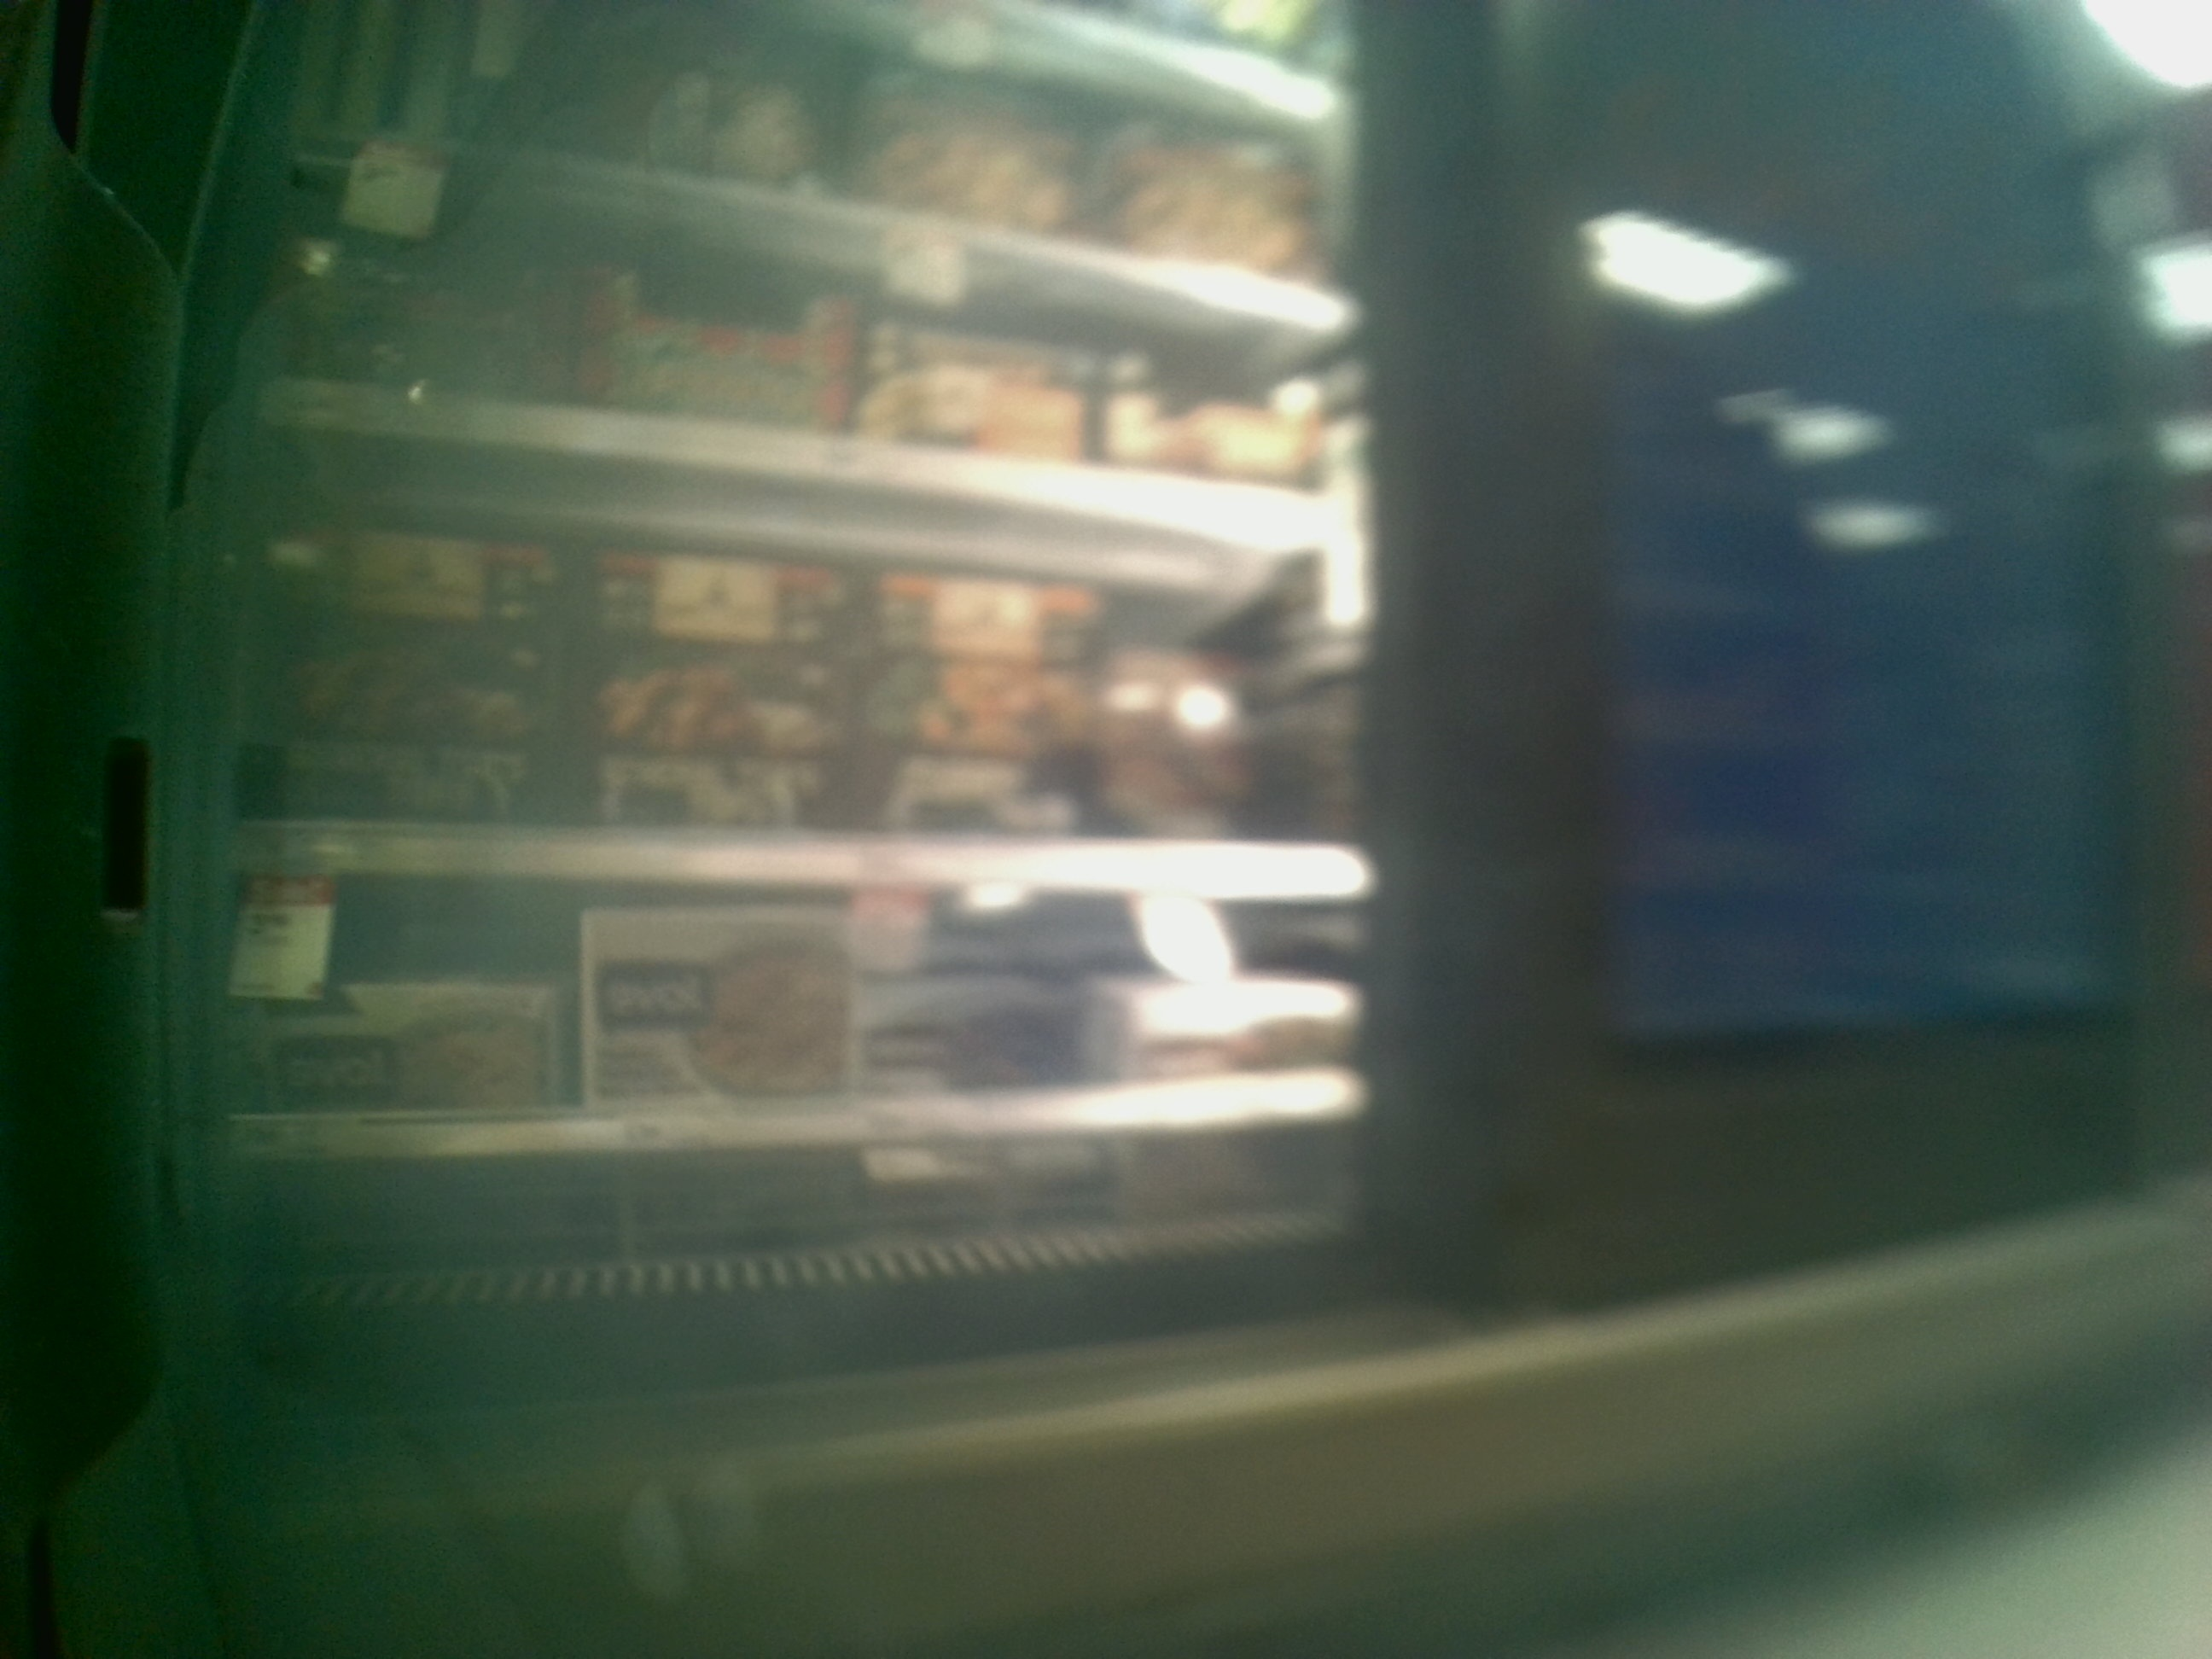frozen-food-shelf: (211, 545, 1378, 903), (211, 903, 1400, 1166)
